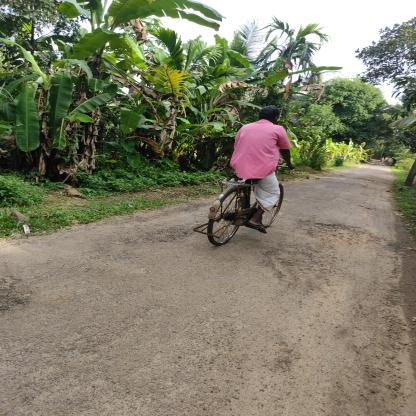bike: (196, 158, 312, 254)
